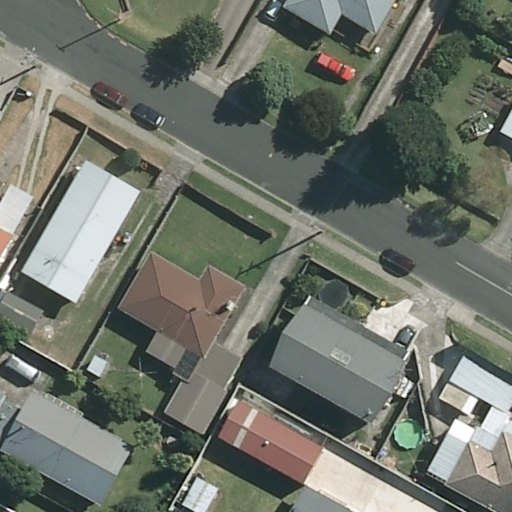DT: (23, 45, 39, 70), (308, 224, 329, 242), (113, 8, 129, 29)
